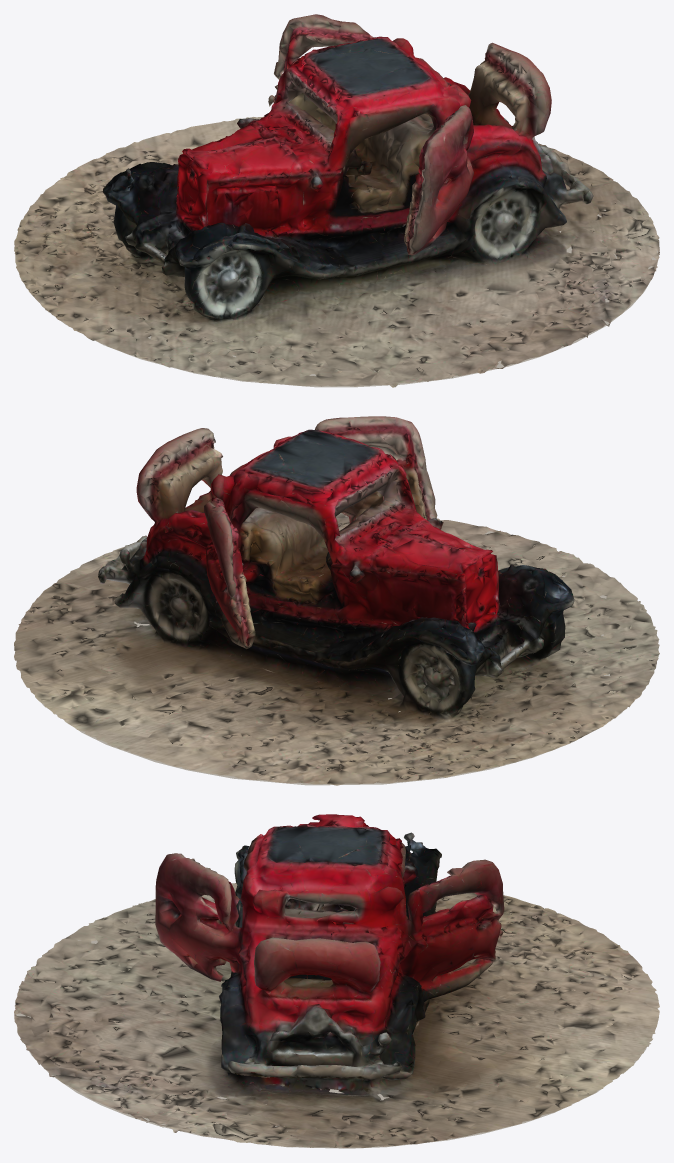
File: carrito.glb
3 renders of one model, top to bottom at view 1: azimuth 30°, elevation 25°; view 2: azimuth 150°, elevation 25°; view 3: azimuth 270°, elevation 25°, orthographic.
Visible parts, largest first — view 1: objeto, base_rellenada; view 2: objeto, base_rellenada; view 3: objeto, base_rellenada.
Part boxes in pixels (x1,y1,x2,y2): objeto: (14, 14, 659, 387); base_rellenada: (50, 210, 658, 387); objeto: (14, 416, 659, 785); base_rellenada: (20, 515, 622, 785); objeto: (14, 814, 659, 1147); base_rellenada: (16, 940, 646, 1148).
Size of the model in its own units: 0.1883 by 0.0608 by 0.1887.
Materials: 2 (1 with a texture image).
